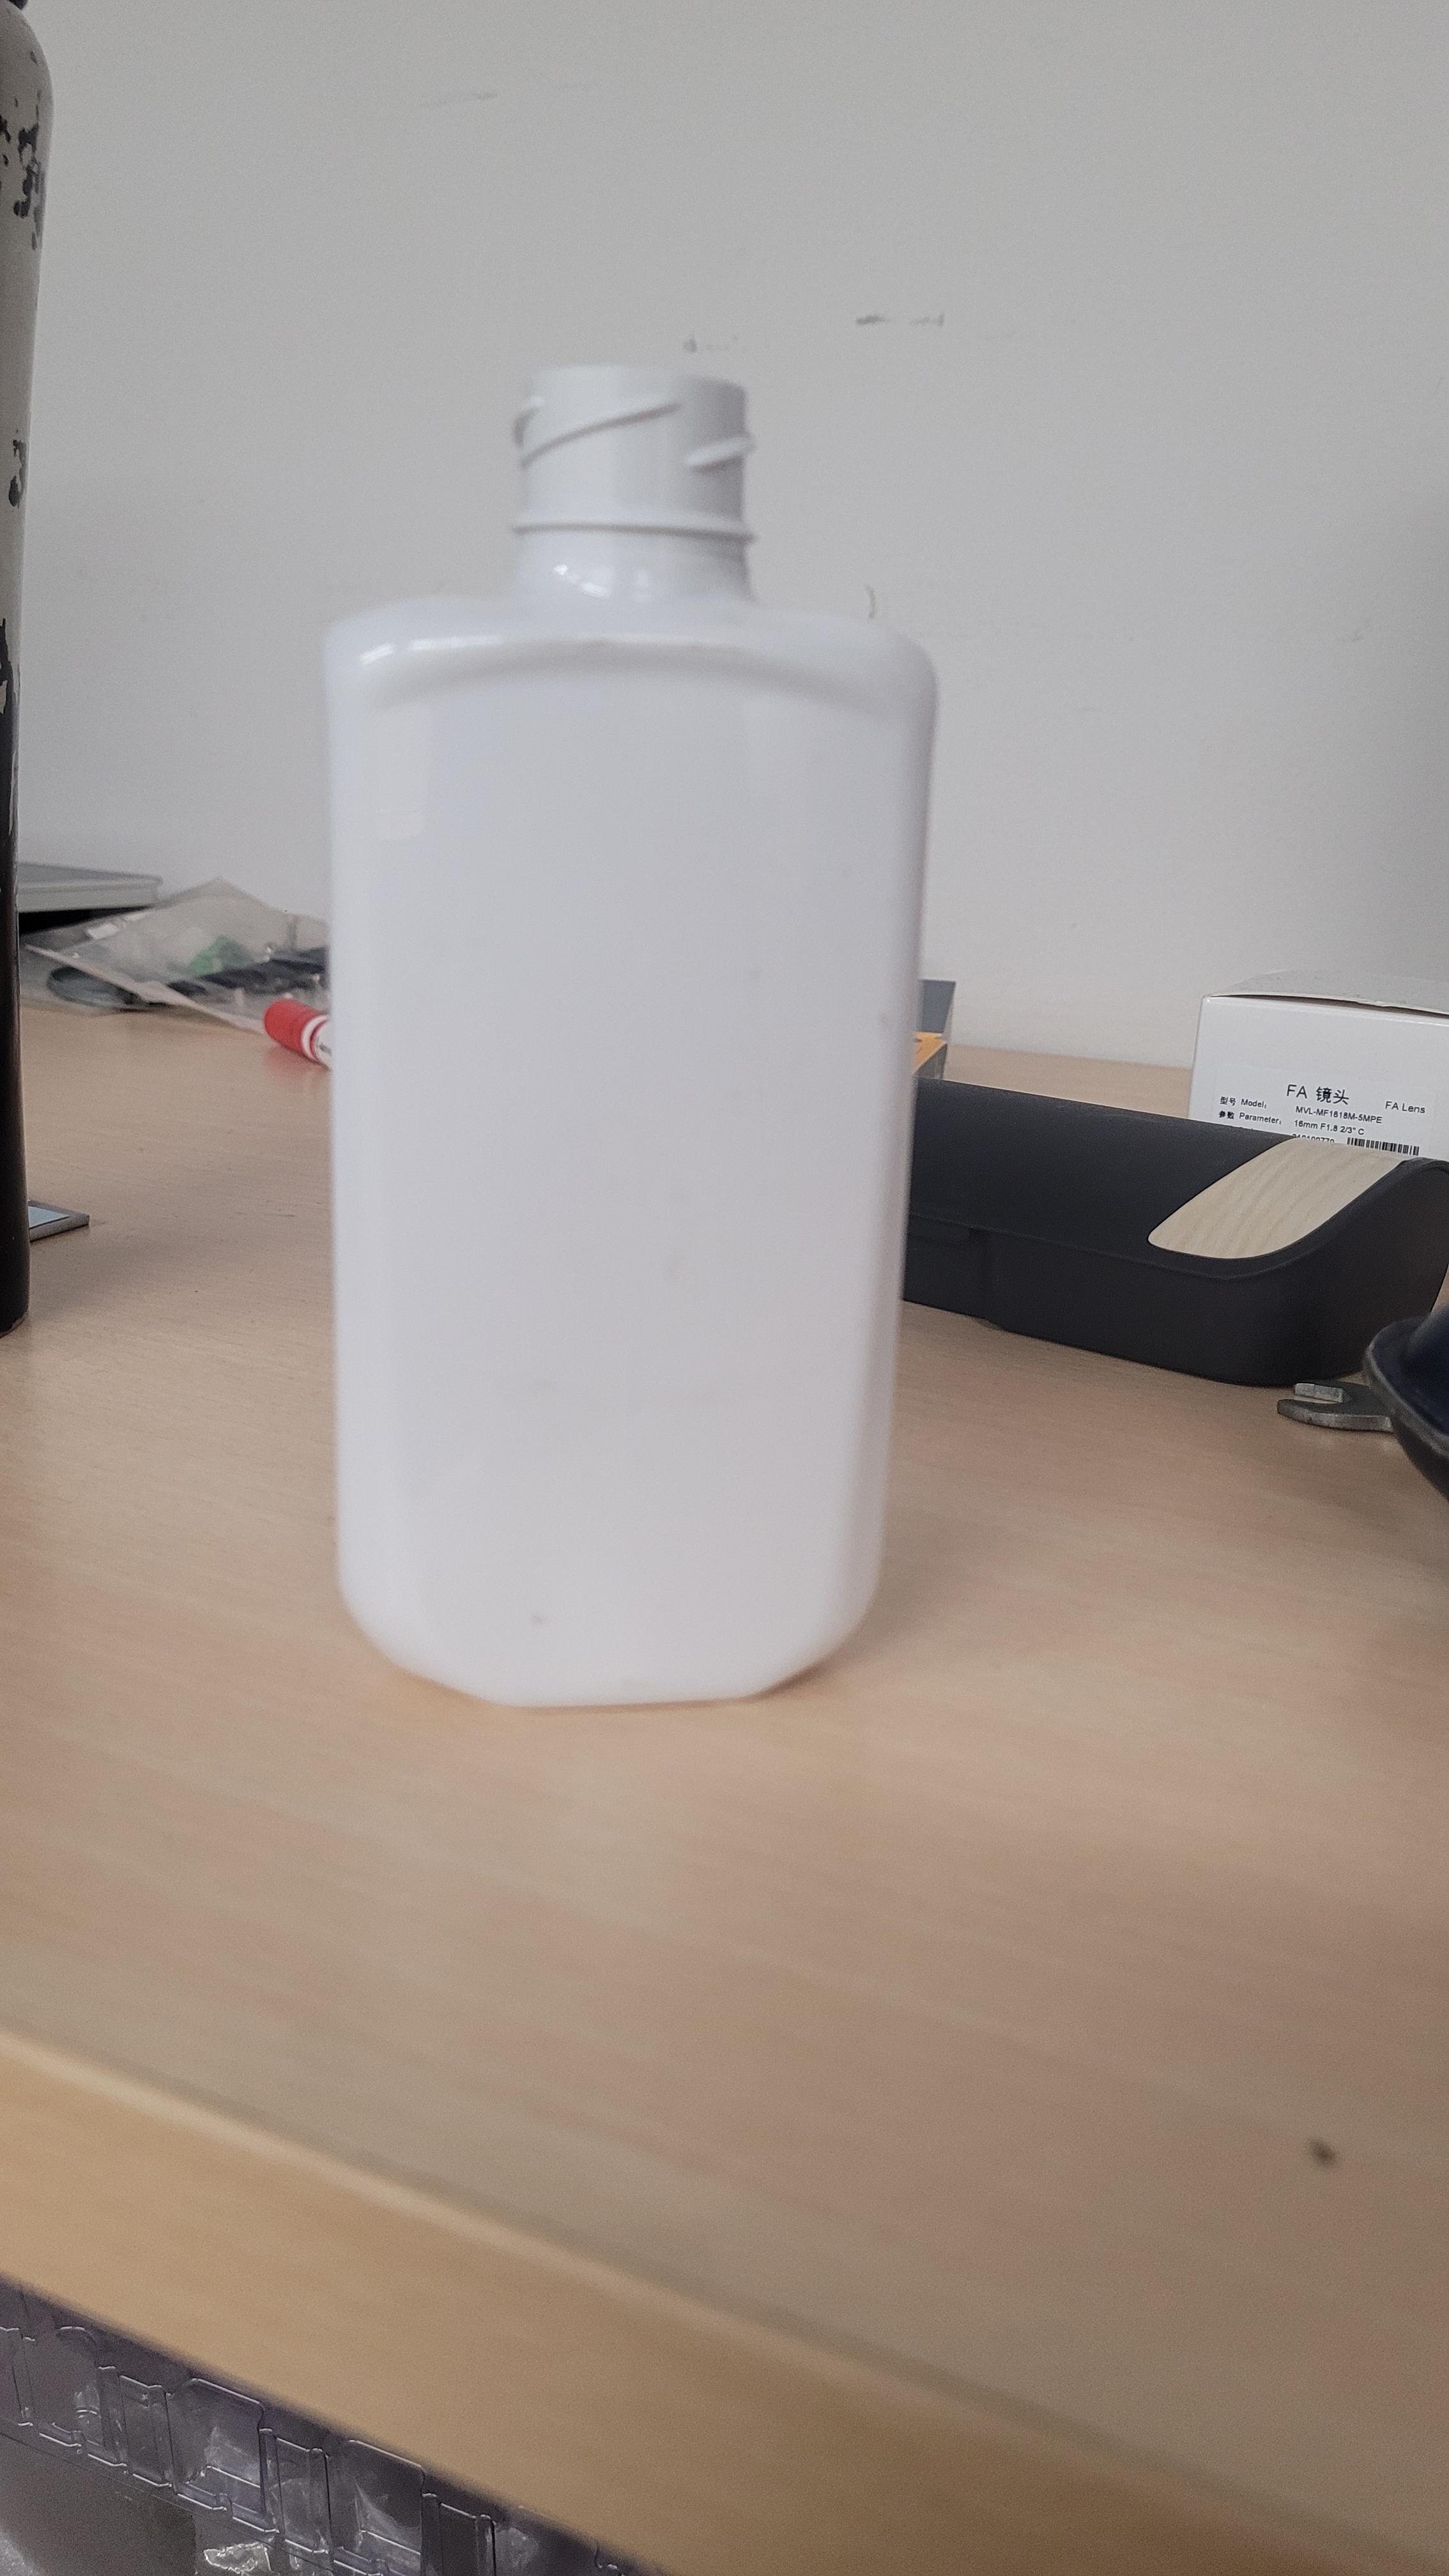Bad: (274, 308, 982, 1762)
